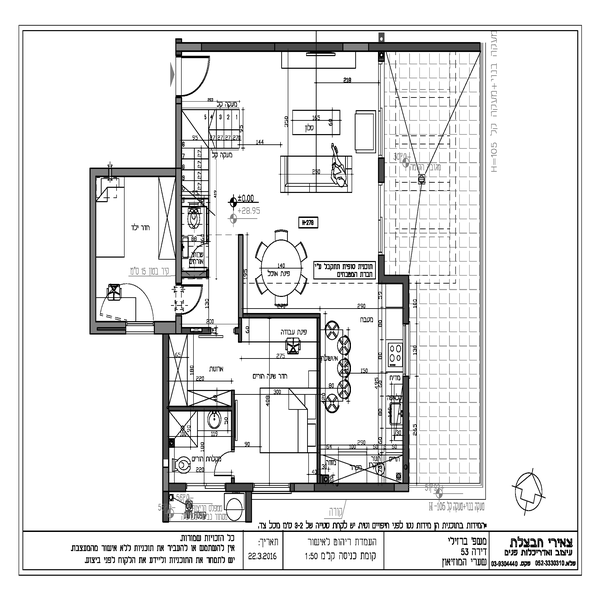door: (177, 50, 213, 101), (202, 448, 238, 481), (172, 285, 204, 314)
room: (171, 38, 393, 286), (148, 307, 328, 497), (311, 269, 414, 493), (81, 158, 188, 336)
wall: (174, 33, 481, 58), (85, 163, 107, 344), (309, 307, 331, 480), (172, 91, 188, 289), (157, 319, 170, 516), (397, 375, 416, 491), (289, 480, 416, 494), (89, 164, 172, 184), (392, 273, 417, 327), (228, 483, 262, 520), (239, 306, 322, 321), (233, 233, 244, 346), (173, 402, 237, 418), (89, 316, 124, 341), (377, 252, 393, 290), (376, 156, 390, 184), (155, 318, 187, 330)
window: (374, 62, 396, 154), (374, 182, 392, 254), (400, 324, 419, 382), (186, 477, 227, 494), (249, 477, 289, 494)
